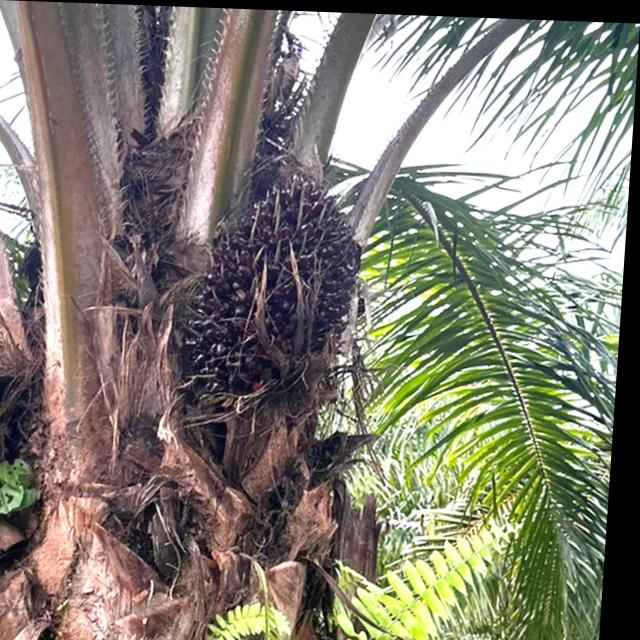ripe: (193, 164, 368, 407)
